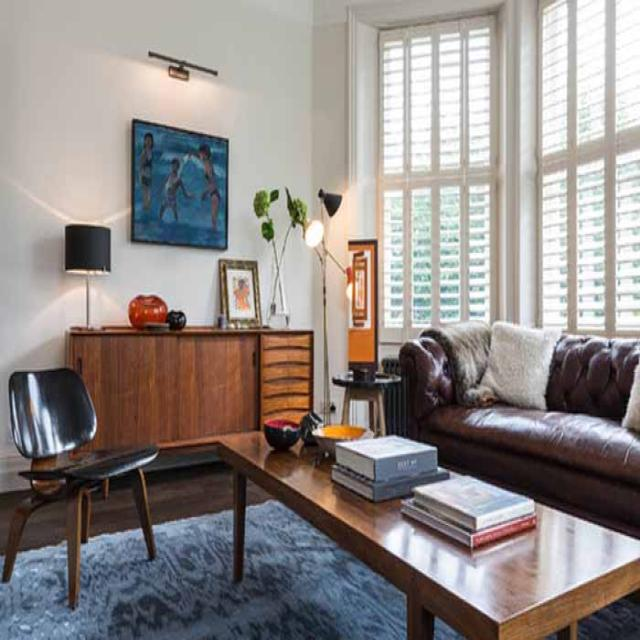vintage chair: (7, 367, 159, 604)
vintage desk: (218, 415, 636, 635)
vintage shelf: (67, 323, 313, 433)
vintage sofa: (392, 312, 640, 532)
